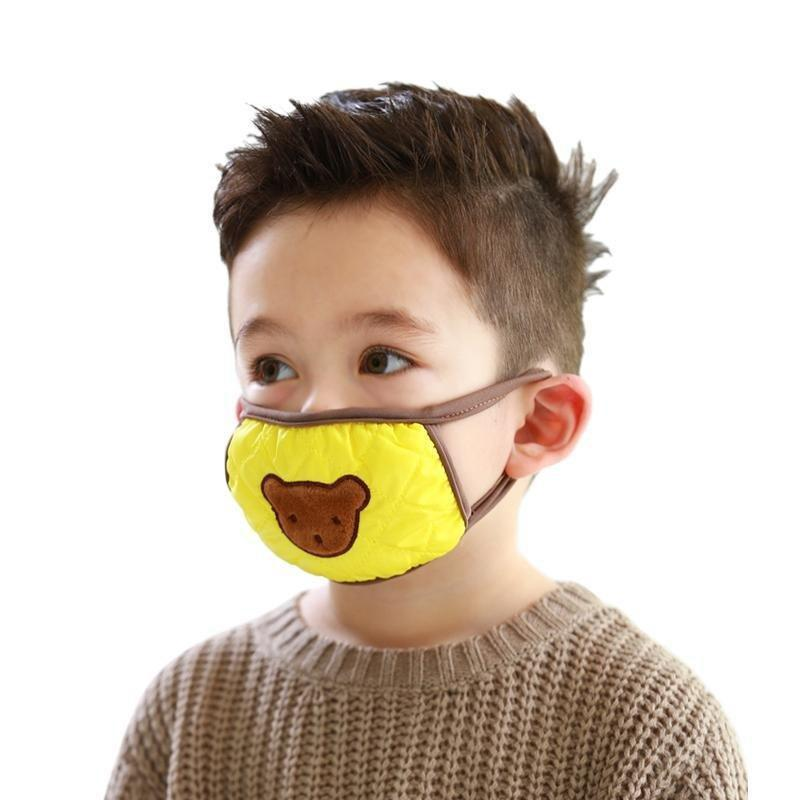OK: (217, 308, 484, 575)
